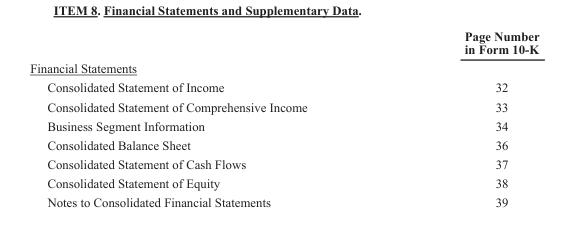table: (29, 28, 538, 209)
table column: (29, 28, 385, 209), (385, 28, 538, 209)
table column header: (29, 28, 538, 58)
table projected row header: (29, 58, 538, 77)
table row: (29, 28, 538, 58), (29, 115, 538, 135), (29, 58, 538, 77), (29, 77, 538, 96), (29, 96, 538, 115), (29, 135, 538, 154), (29, 154, 538, 173), (29, 173, 538, 192), (29, 192, 538, 209)
